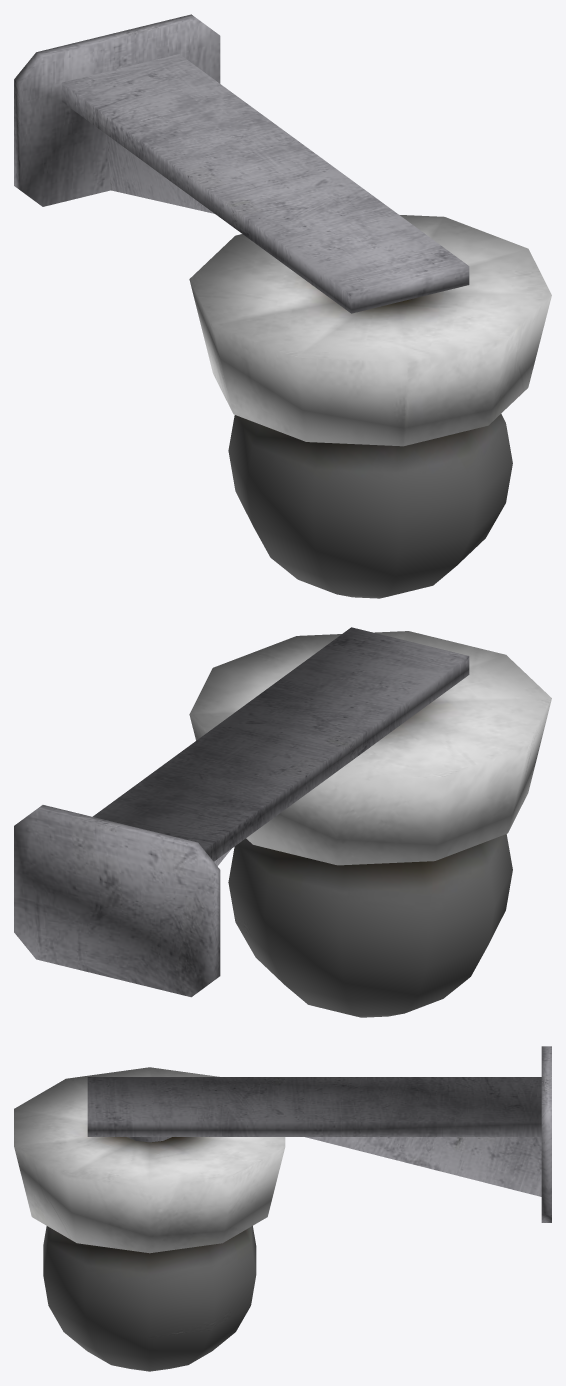
Rendered from wall_dome.glb.
3 renders of one model, top to bottom at view 1: azimuth 30°, elevation 25°; view 2: azimuth 150°, elevation 25°; view 3: azimuth 270°, elevation 25°, orthographic. The views are drawn at different scales.
Visible parts, largest first — view 1: wall_dome; view 2: wall_dome; view 3: wall_dome.
Part boxes in pixels (x1,y1,x2,y2): wall_dome: (14, 14, 551, 598); wall_dome: (14, 627, 551, 1017); wall_dome: (14, 1046, 551, 1371).
Size of the model in its own units: 0.128 by 0.1415 by 0.2412.
2 materials, 2 textured.
